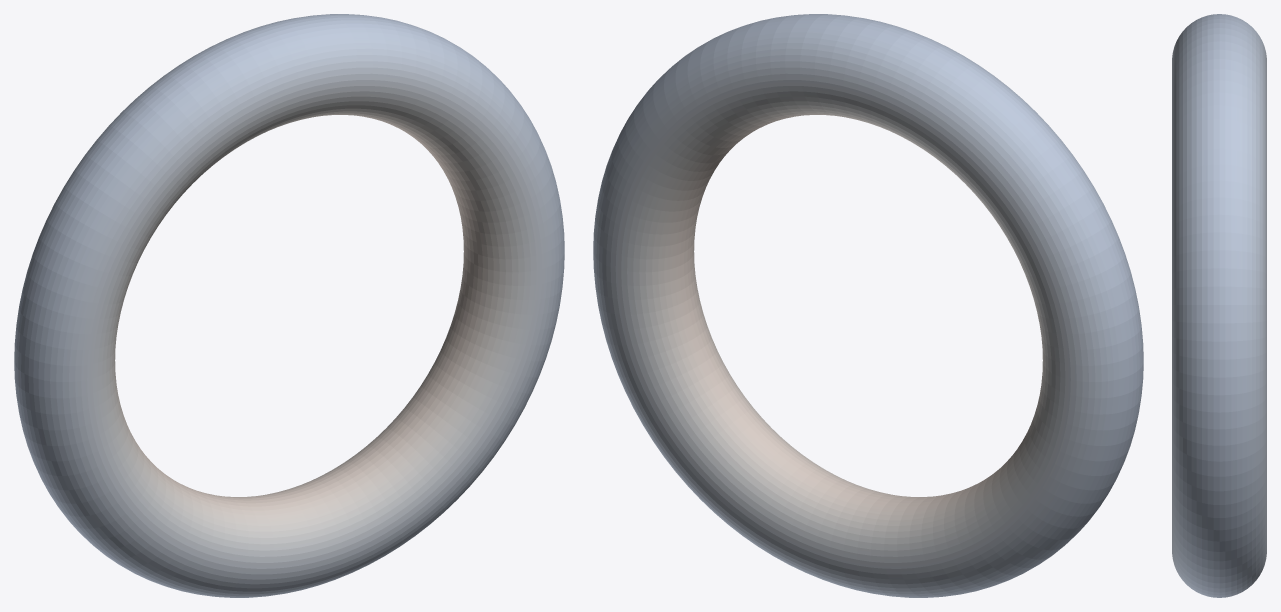
3 renders of one model, left to right at view 1: azimuth 30°, elevation 25°; view 2: azimuth 150°, elevation 25°; view 3: azimuth 270°, elevation 25°, orthographic. The views are drawn at different scales.
Visible parts, largest first — view 1: world; view 2: world; view 3: world.
Part boxes in pixels (box(x1,y1,x2,y2)): world: box(14, 14, 564, 597); world: box(593, 14, 1143, 597); world: box(1172, 14, 1266, 597).
Size of the model in its own units: 28.67 by 28.67 by 4.66.
